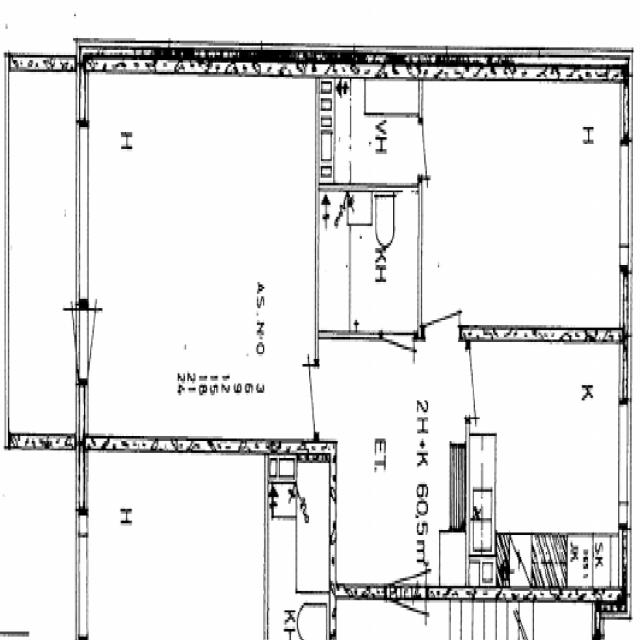door: (386, 505, 427, 601), (76, 308, 126, 384), (38, 308, 88, 384), (424, 254, 460, 338), (467, 348, 506, 420), (281, 364, 319, 433), (382, 332, 416, 405), (419, 119, 452, 178)
